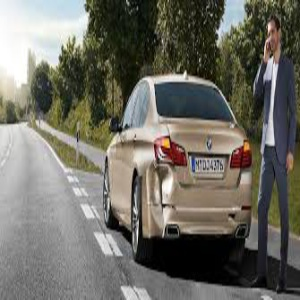bumper: (143, 162, 186, 218)
